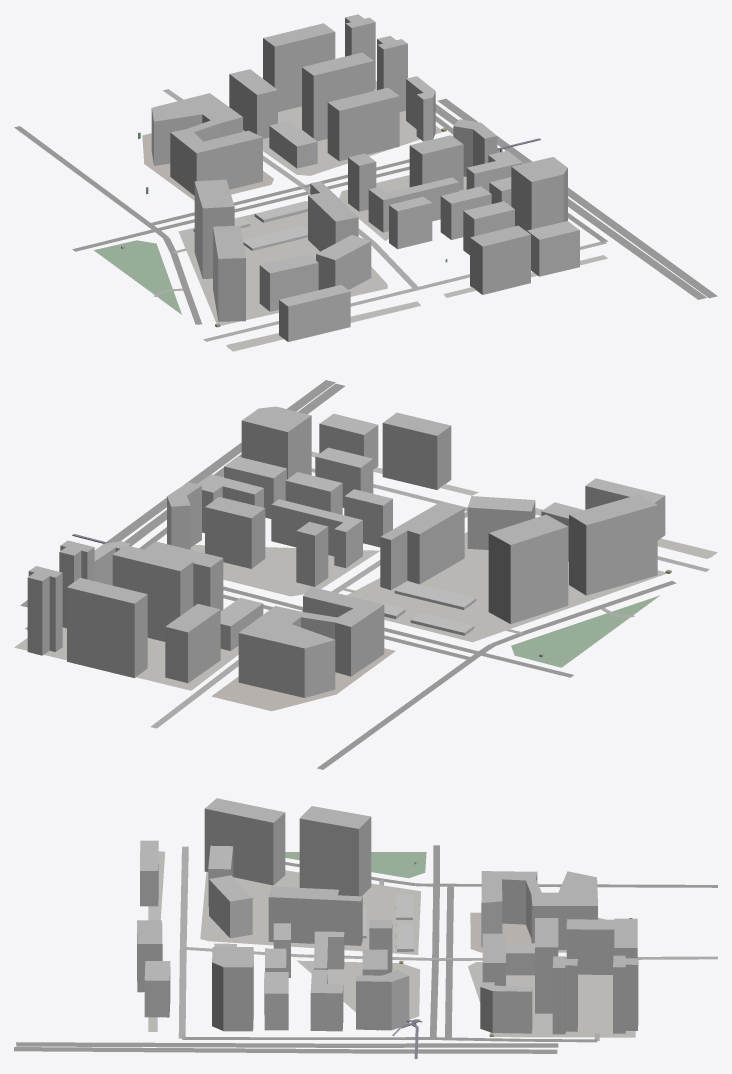
3 views of the same model, one above another, from view 1: azimuth 30°, elevation 25°; view 2: azimuth 150°, elevation 25°; view 3: azimuth 270°, elevation 25° (orthographic). The views are drawn at different scales.
Bounding box in the file's own units: 538 × 81.05 × 722.
